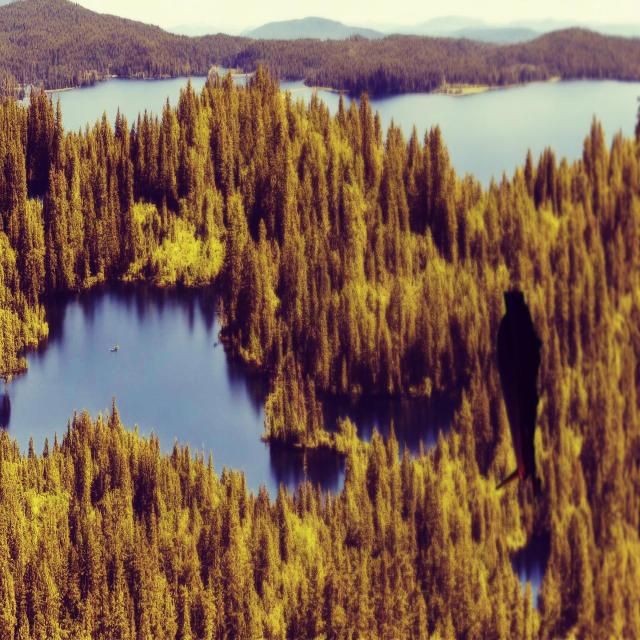airplane: (494, 287, 543, 498)
